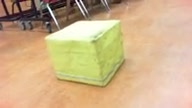cube: (44, 19, 124, 87)
